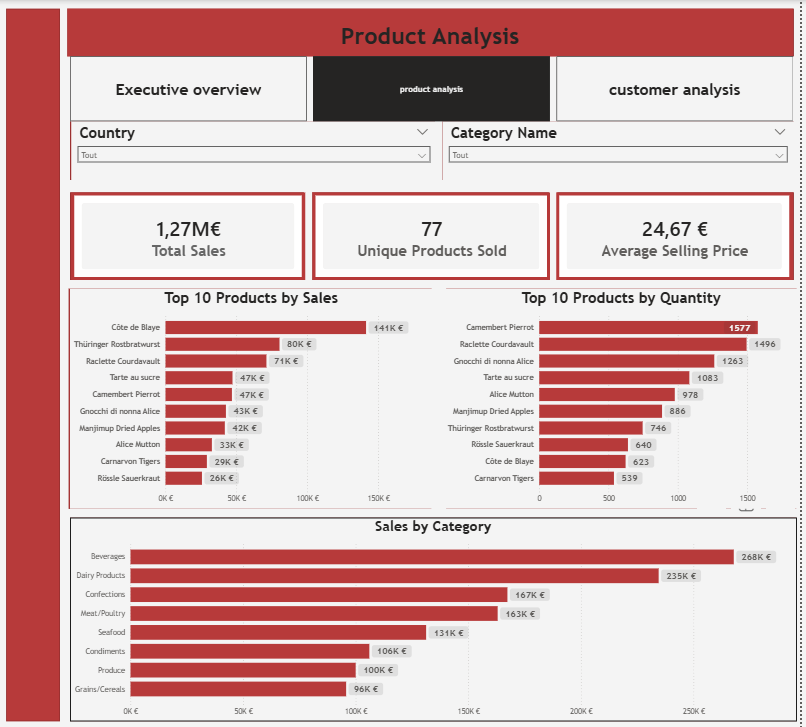

Layout of this report page (visuals, bound fields, positions):
{"tool":"powerbi","page":{"name":"product analysis","canvas":[1280,1200],"ordinal":1},"visuals":[{"type":"shape","box":[108,14,1162,76],"z":0},{"type":"shape","box":[10,14,86,1140],"z":1000},{"type":"shape","box":[112,308,374,140],"z":2000},{"type":"shape","box":[500,308,378,140],"z":3000},{"type":"shape","box":[892,308,378,140],"z":4000},{"type":"textbox","box":[108,14,1160,76],"z":5000},{"type":"shape","box":[110,462,580,352],"z":6000},{"type":"shape","box":[714,462,560,352],"z":7000},{"type":"shape","box":[112,828,1162,326],"z":8000},{"type":"cardVisual","fields":{"Data":["Measures_Table.Total Sales"]},"box":[114,308,374,140],"z":9000},{"type":"cardVisual","fields":{"Data":["Measures_Table.Total Products Sold"]},"box":[500,308,380,140],"z":10000},{"type":"cardVisual","fields":{"Data":["Measures_Table.Average Selling Price"]},"box":[890,308,378,140],"z":11000},{"type":"clusteredBarChart","title":"Top 10 Products by Sales","fields":{"Y":["Measures_Table.Total Sales"],"Category":["vw_dim_product.ProductName"]},"box":[112,462,580,352],"z":12000},{"type":"barChart","title":"Sales by Category","fields":{"Y":["Measures_Table.Total Sales"],"Category":["vw_dim_product.CategoryName"]},"box":[112,828,1162,326],"z":13000},{"type":"clusteredBarChart","title":"Top 10 Products by Quantity","fields":{"Category":["vw_dim_product.ProductName"],"Y":["Measures_Table.Total Quantity"]},"box":[710,462,568,352],"z":14000},{"type":"shape","box":[112,194,584,94],"z":15000},{"type":"slicer","fields":{"Values":["vw_dim_customer.Country"]},"box":[114,194,584,94],"z":16000},{"type":"shape","box":[708,194,562,94],"z":17000},{"type":"slicer","fields":{"Values":["vw_dim_product.CategoryName"]},"box":[708,194,562,94],"z":18000},{"type":"pageNavigator","box":[112,90,1158,104],"z":19000}]}

Visuals, with their boxes on the page's 1280x1200 design canvas (x1, y1, x2, y2). These are canvas units, not pixel positions in the 806x727 screenshot, which may show the page scaled, cropped or inside an application window:
shape: <box>108,14,1270,90</box>
shape: <box>10,14,96,1154</box>
shape: <box>112,308,486,448</box>
shape: <box>500,308,878,448</box>
shape: <box>892,308,1270,448</box>
textbox: <box>108,14,1268,90</box>
shape: <box>110,462,690,814</box>
shape: <box>714,462,1274,814</box>
shape: <box>112,828,1274,1154</box>
cardVisual - Measures_Table.Total Sales: <box>114,308,488,448</box>
cardVisual - Measures_Table.Total Products Sold: <box>500,308,880,448</box>
cardVisual - Measures_Table.Average Selling Price: <box>890,308,1268,448</box>
"Top 10 Products by Sales" clusteredBarChart: <box>112,462,692,814</box>
"Sales by Category" barChart: <box>112,828,1274,1154</box>
"Top 10 Products by Quantity" clusteredBarChart: <box>710,462,1278,814</box>
shape: <box>112,194,696,288</box>
slicer - vw_dim_customer.Country: <box>114,194,698,288</box>
shape: <box>708,194,1270,288</box>
slicer - vw_dim_product.CategoryName: <box>708,194,1270,288</box>
pageNavigator: <box>112,90,1270,194</box>
